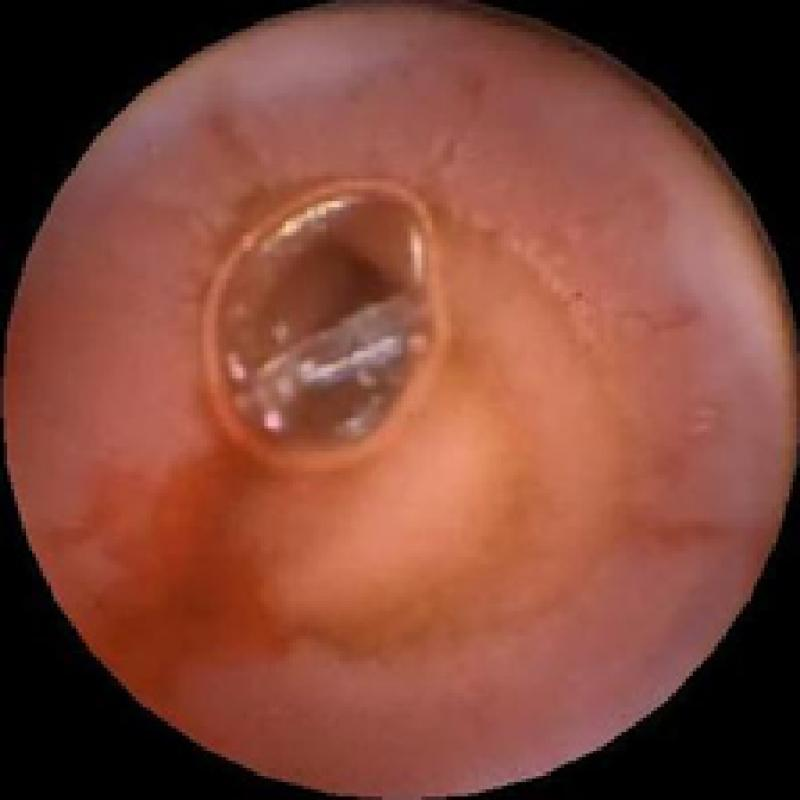bleeding: (157, 389, 325, 679)
